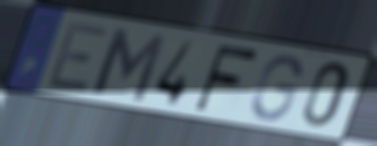0: (299, 59, 352, 131)
4: (152, 37, 199, 109)
E: (43, 20, 113, 96)
F: (191, 41, 262, 113)
G: (249, 52, 304, 124)
M: (89, 24, 169, 106)
